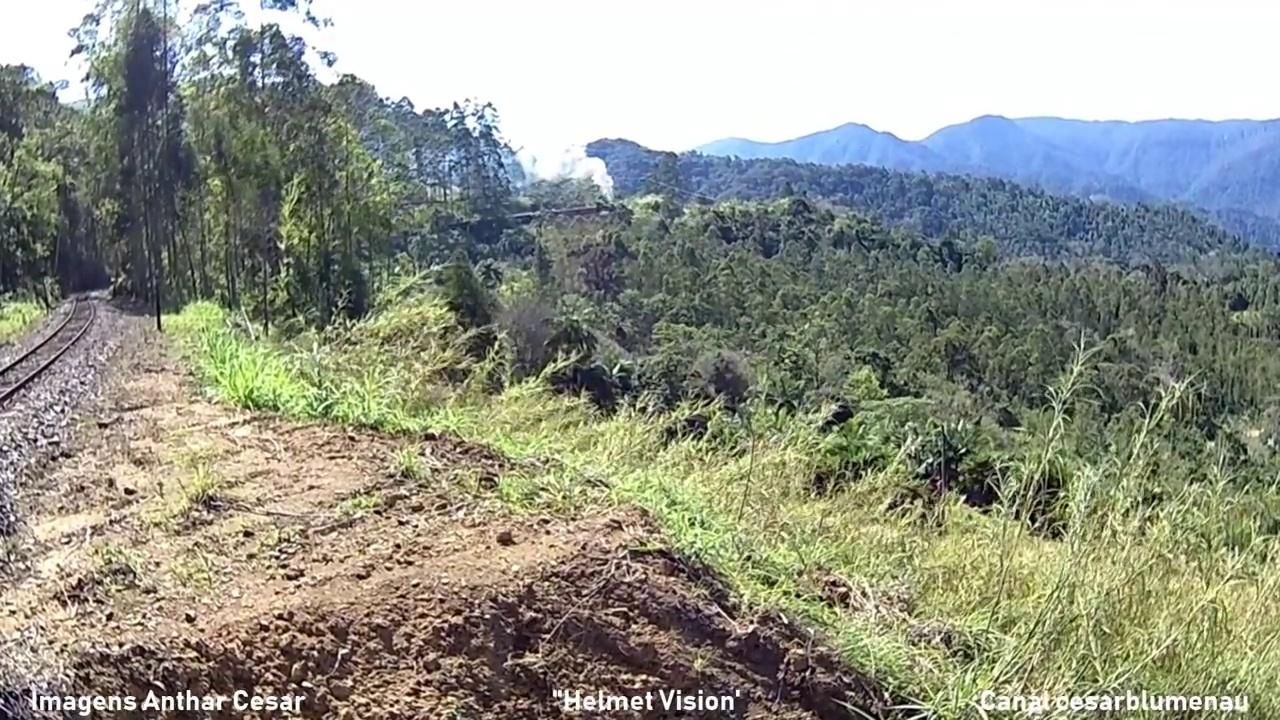Smoke: (586, 156, 617, 201)
